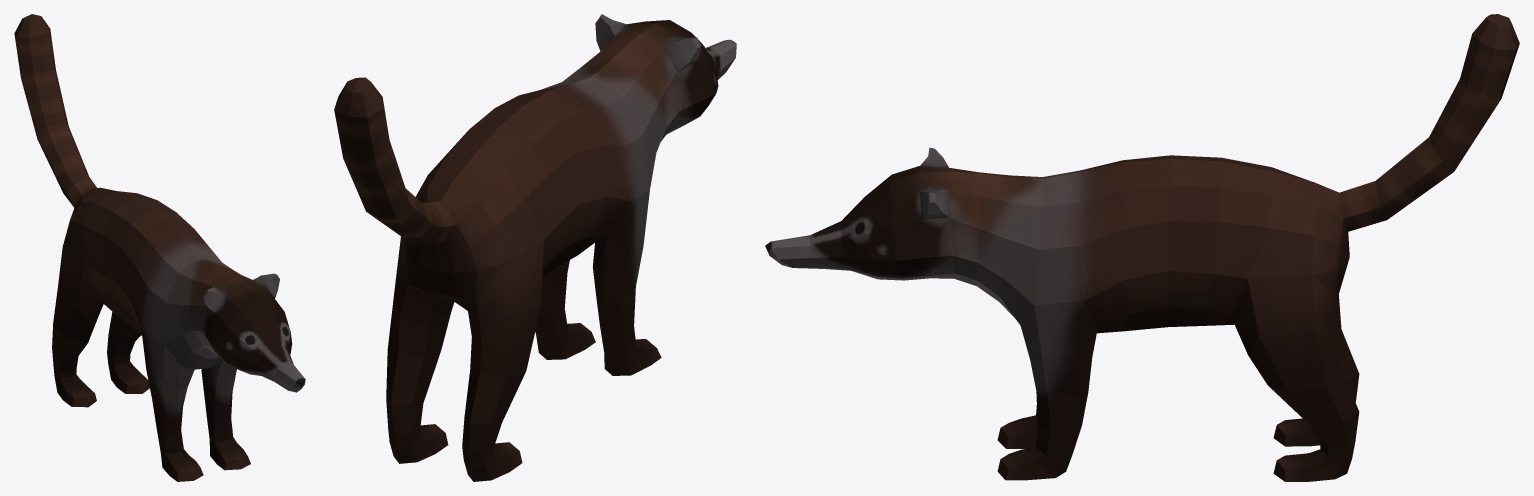
File: 5f5lhqxsPLP.glb
3 renders of one model, left to right at view 1: azimuth 30°, elevation 25°; view 2: azimuth 150°, elevation 25°; view 3: azimuth 270°, elevation 25°, orthographic. The views are drawn at different scales.
Parts seen in each view (by area): view 1: Coati_mesh; view 2: Coati_mesh; view 3: Coati_mesh.
Boxes of the visible parts, box(x1,y1,x2,y2) form: Coati_mesh: box(14, 14, 305, 481); Coati_mesh: box(334, 14, 736, 481); Coati_mesh: box(765, 14, 1519, 481).
Size of the model in its own units: 0.2853 by 0.9999 by 1.55.
Materials: 1 (1 with a texture image).
